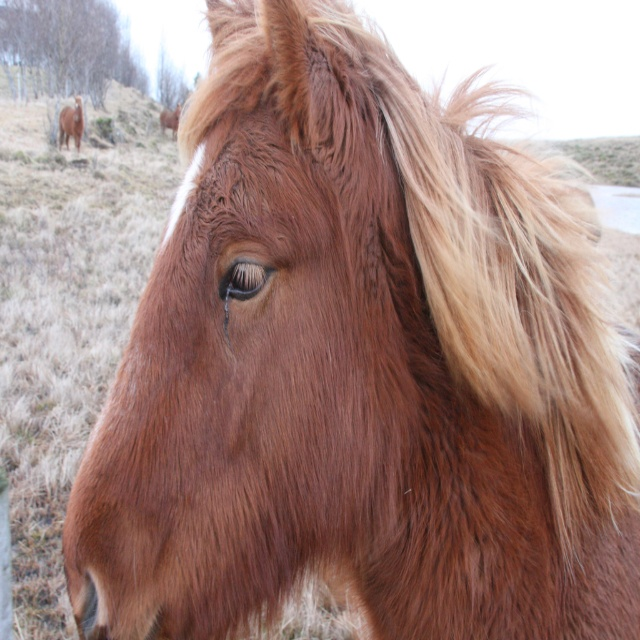Horse: (62, 0, 640, 639), (58, 97, 83, 154), (159, 100, 182, 142)
